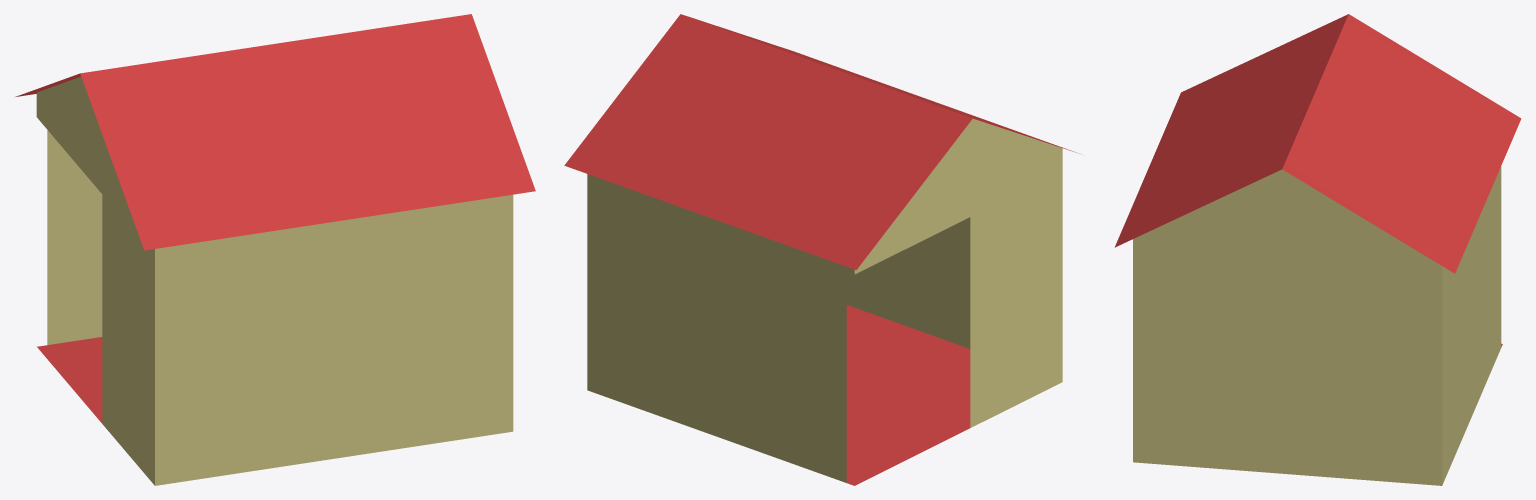
3 views of the same model, side by side, from view 1: azimuth 30°, elevation 25°; view 2: azimuth 150°, elevation 25°; view 3: azimuth 270°, elevation 25° (orthographic). The views are drawn at different scales.
Size of the model in its own units: 13.48 by 12.79 by 10.79.
